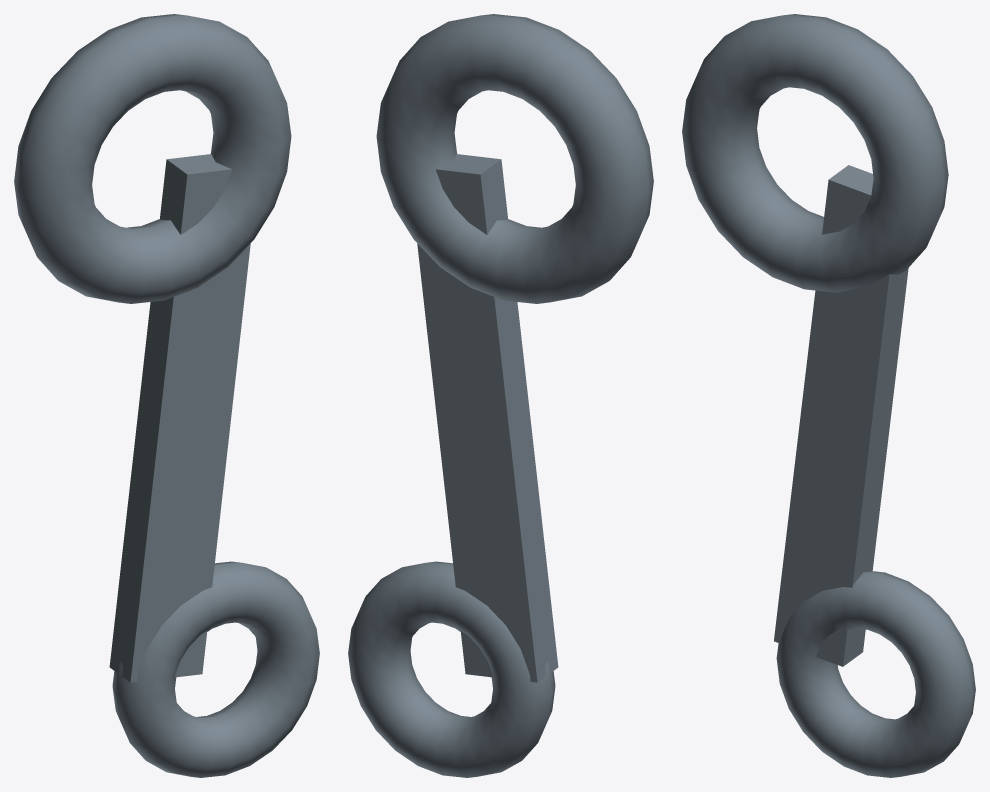
Rendered from wrench.glb.
3 renders of one model, left to right at view 1: azimuth 30°, elevation 25°; view 2: azimuth 150°, elevation 25°; view 3: azimuth 330°, elevation 25°, orthographic. The views are drawn at different scales.
Bounding box in the file's own units: 0.655 × 1.62 × 0.1427.
